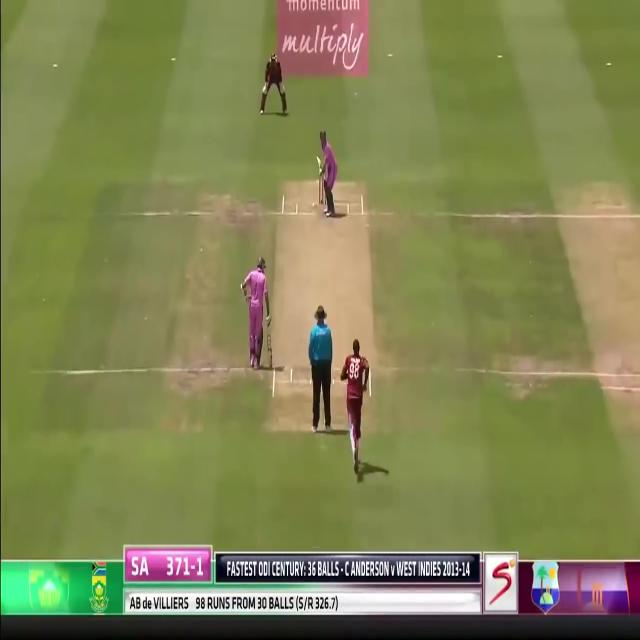Ball: (244, 255, 270, 368), (316, 130, 340, 217)
Fielder: (343, 338, 371, 476), (261, 54, 287, 115)
Umpire: (308, 303, 333, 435)
